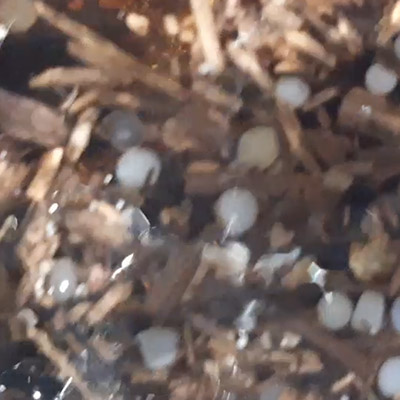nurdle: (208, 183, 267, 240), (228, 120, 288, 175), (128, 320, 189, 372), (38, 252, 89, 306), (308, 285, 358, 332), (350, 287, 389, 338), (97, 110, 143, 152), (114, 150, 161, 191), (270, 73, 313, 113), (357, 59, 400, 94), (370, 355, 400, 398), (380, 290, 400, 337)
